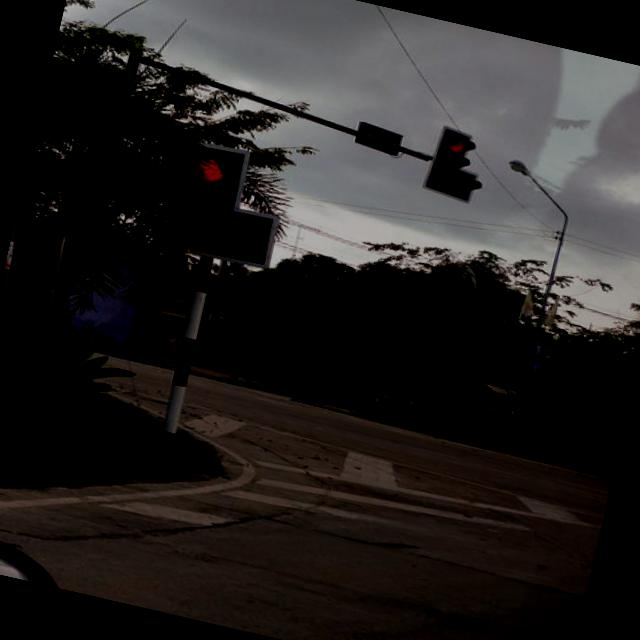Vehicle: (0, 502, 75, 589)
